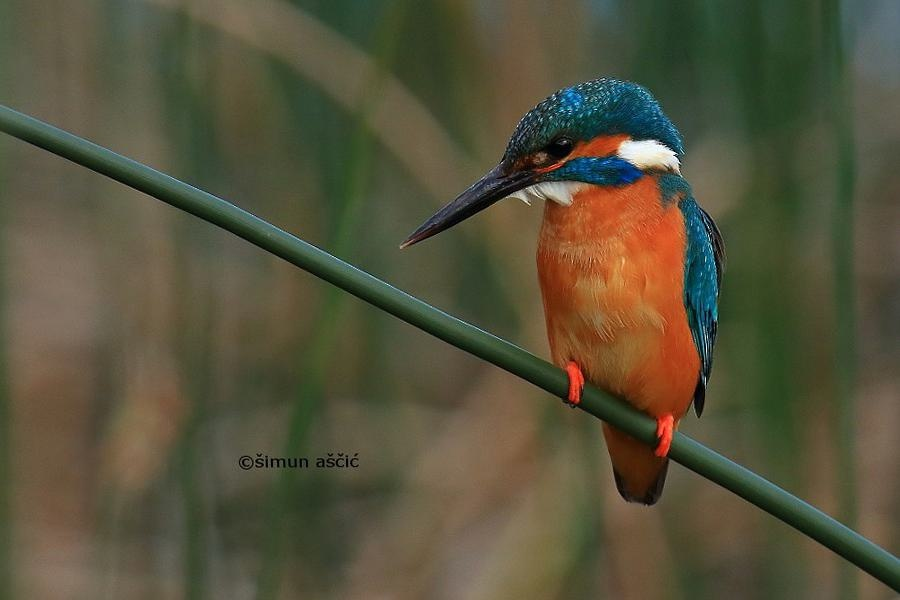kingfisher: (410, 75, 727, 486)
